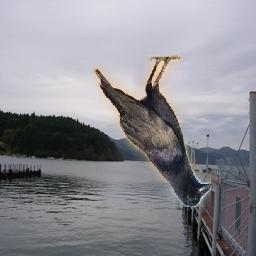Crow: (95, 55, 212, 207)
